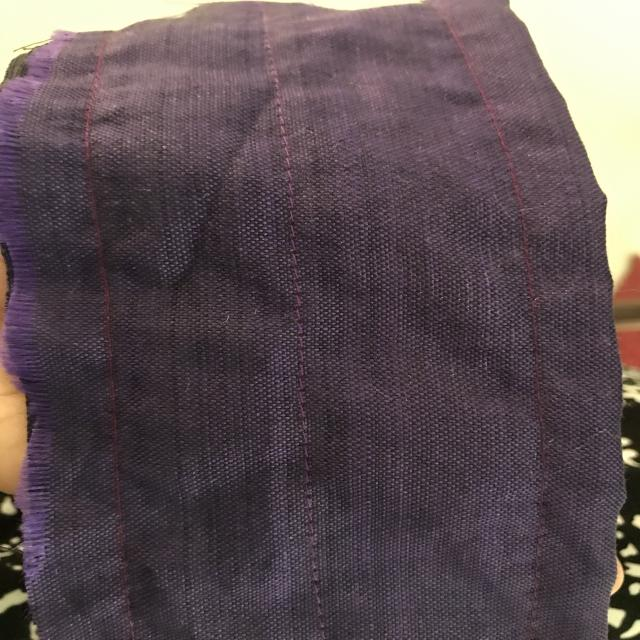good: (261, 143, 333, 273)
